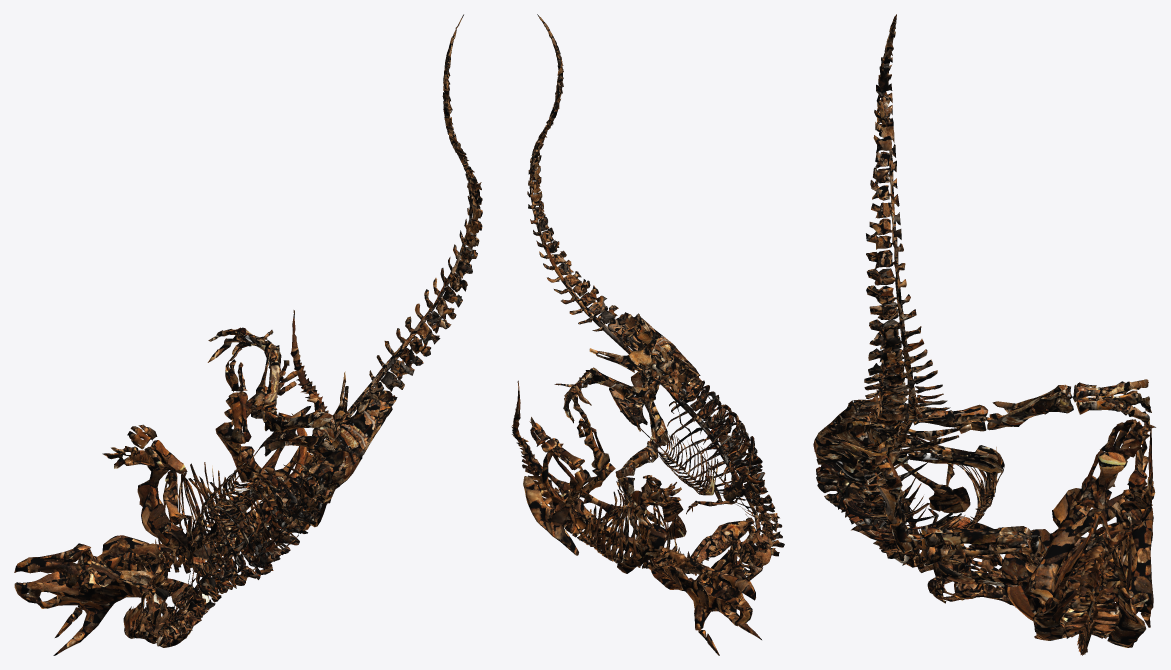
File: rex-skeleton.obj
3 views of the same model, side by side, from view 1: azimuth 30°, elevation 25°; view 2: azimuth 150°, elevation 25°; view 3: azimuth 270°, elevation 25° (orthographic). The views are drawn at different scales.
Bounding box in the file's own units: 5.89 × 9.48 × 3.62.
5 materials, 5 textured.
